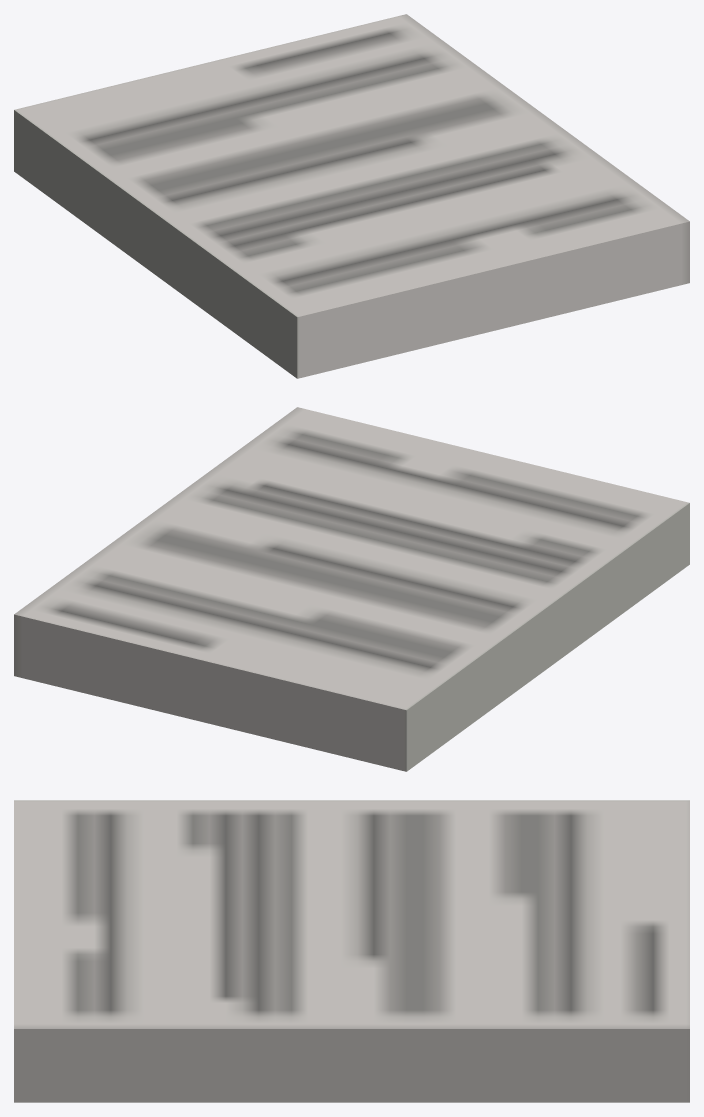
Rendered from SM_Props_Interior_Generic_Office_Paper_02.fbx.
3 renders of one model, top to bottom at view 1: azimuth 30°, elevation 25°; view 2: azimuth 150°, elevation 25°; view 3: azimuth 270°, elevation 25°, orthographic. The views are drawn at different scales.
Parts seen in each view (by area): view 1: SM_Props_Interior_Generic_Office_Paper_02; view 2: SM_Props_Interior_Generic_Office_Paper_02; view 3: SM_Props_Interior_Generic_Office_Paper_02.
Part boxes in pixels (box(x1,y1,x2,y2)): SM_Props_Interior_Generic_Office_Paper_02: box(14, 14, 689, 378); SM_Props_Interior_Generic_Office_Paper_02: box(14, 407, 689, 771); SM_Props_Interior_Generic_Office_Paper_02: box(14, 800, 689, 1102).
Size of the model in its own units: 40 by 6 by 50.
